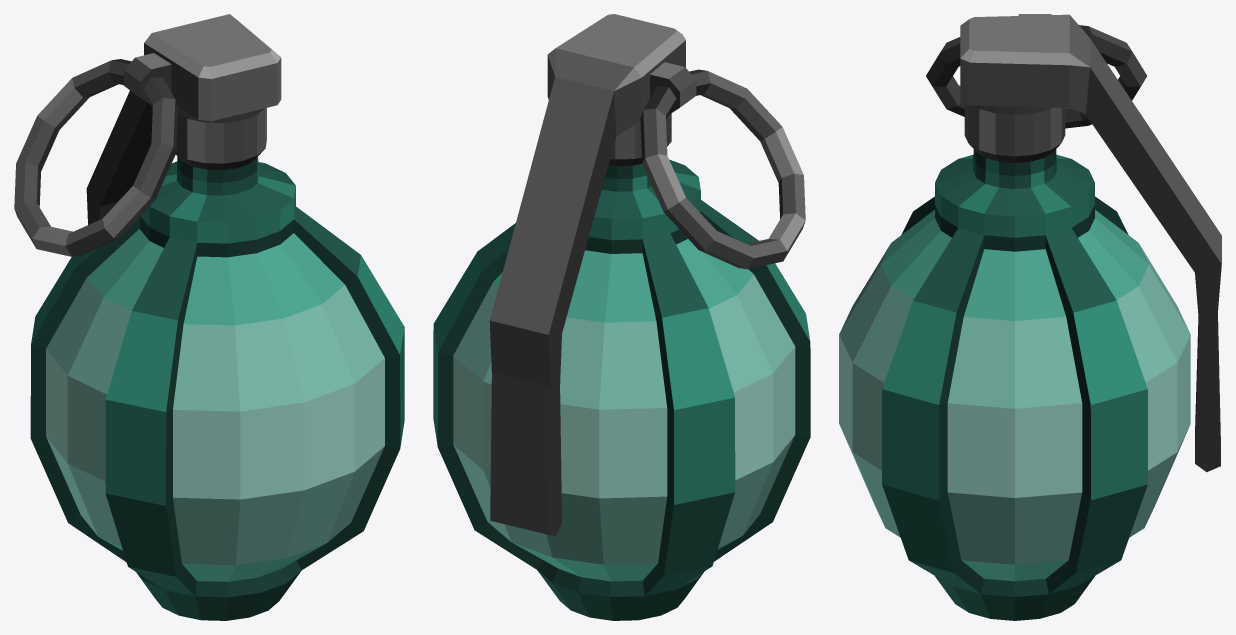
File: Cosmic_Retro_Grenades_Pack_2.fbx
The picture shows the model from 3 angles, left to right: view 1: azimuth 30°, elevation 25°; view 2: azimuth 150°, elevation 25°; view 3: azimuth 270°, elevation 25°; orthographic projection.
Visible parts, largest first — view 1: Cosmic_Retro_Grenades_Pack_2; view 2: Cosmic_Retro_Grenades_Pack_2; view 3: Cosmic_Retro_Grenades_Pack_2.
Part boxes in pixels (x1,y1,x2,y2): Cosmic_Retro_Grenades_Pack_2: (14, 14, 404, 620); Cosmic_Retro_Grenades_Pack_2: (433, 14, 810, 620); Cosmic_Retro_Grenades_Pack_2: (839, 14, 1221, 620).
Bounding box in the file's own units: 0.1692 × 0.2745 × 0.1701.
